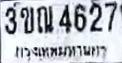2: (88, 2, 102, 30)
3: (4, 6, 16, 34)
4: (58, 3, 71, 32)
6: (74, 3, 86, 31)
7: (104, 0, 116, 30)
A02: (19, 6, 33, 33)
A19: (36, 5, 53, 33)
BKK: (12, 43, 106, 59)
